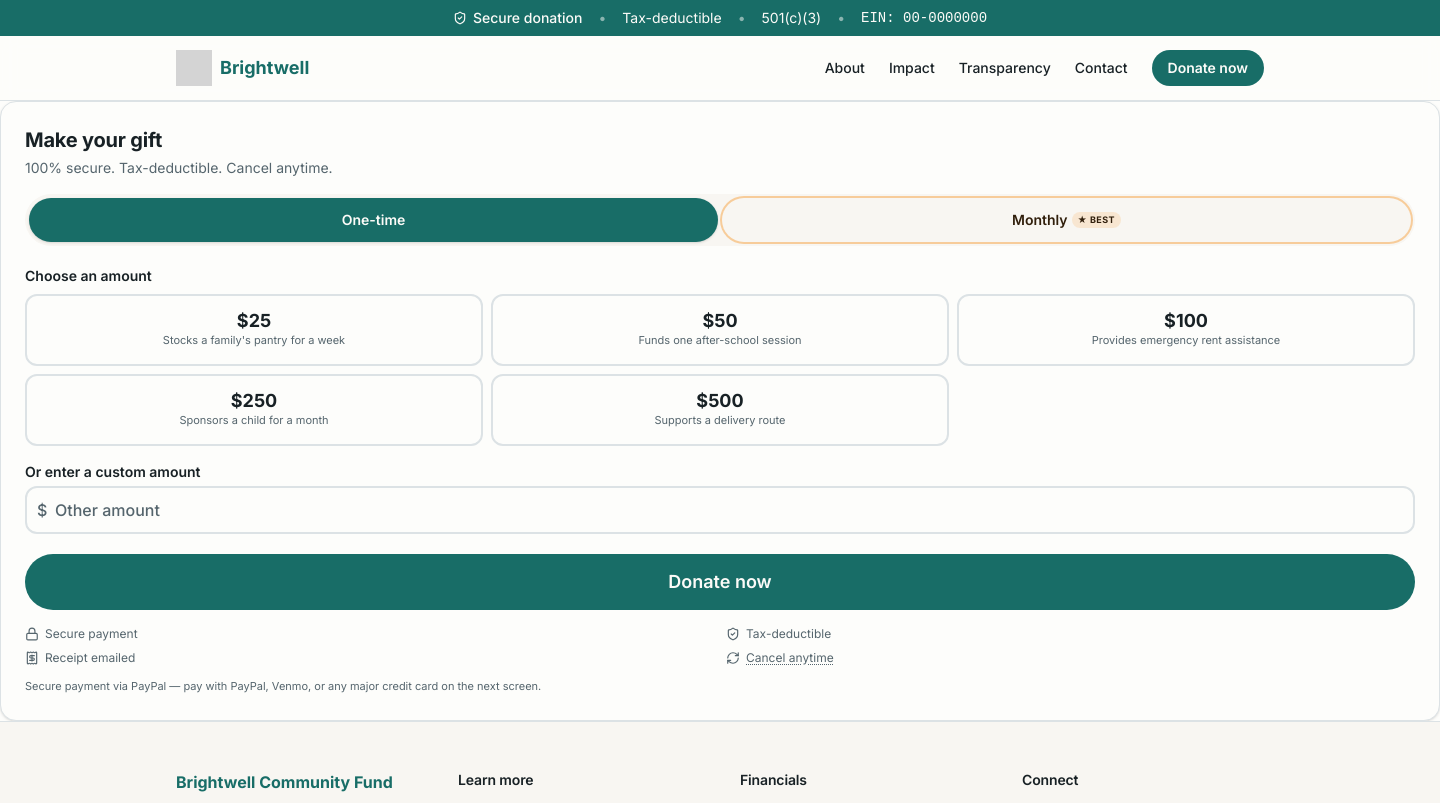
it: Donation module → /refund-policy linkage › navigates to the refund policy when the donor clicks 'Cancel anytime'
Click the link with test id "donation-module-trust-link-refresh" at (790, 658), box [746,650,834,666]
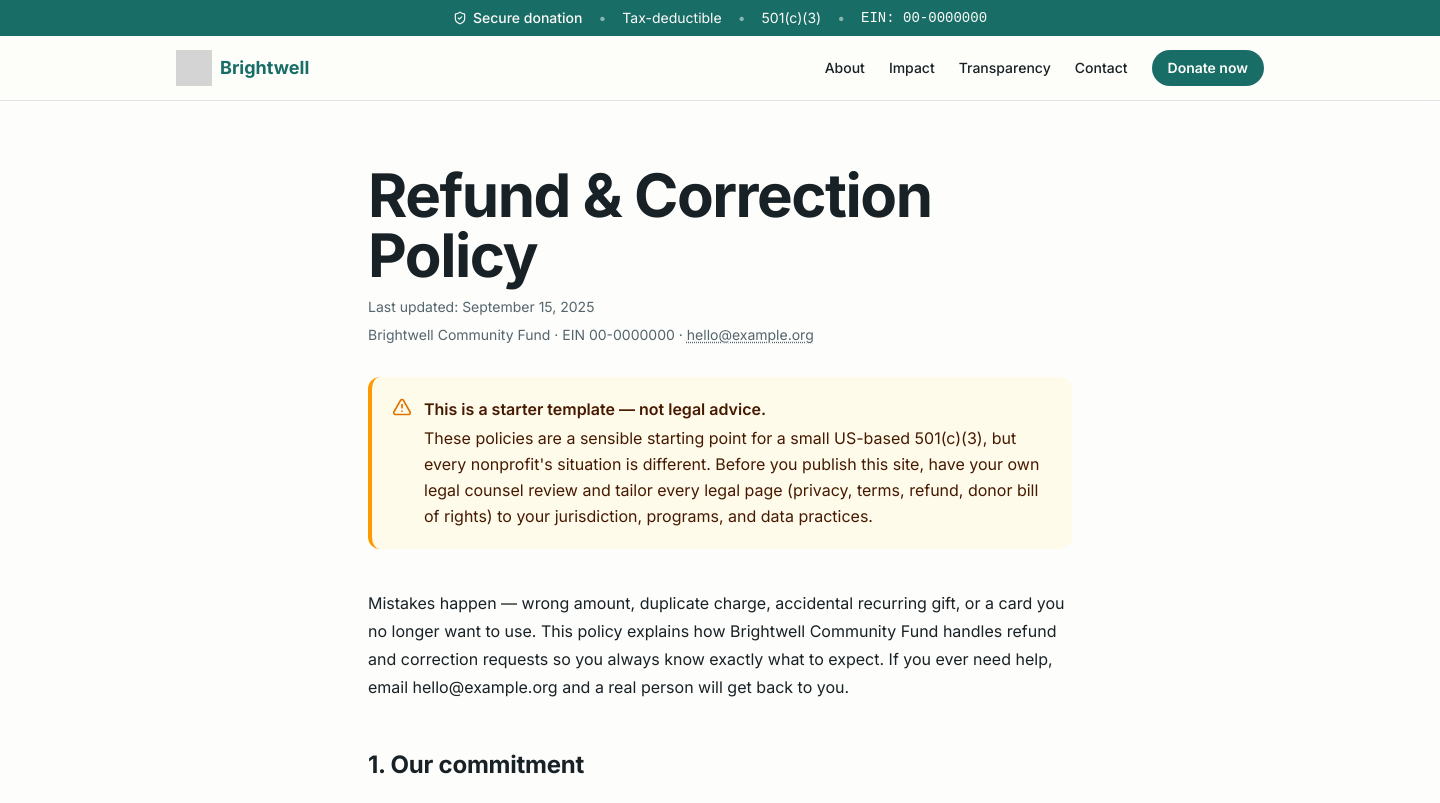
Expected: the heading "Refund & Correction Policy" is shown, [368,159,932,291]
